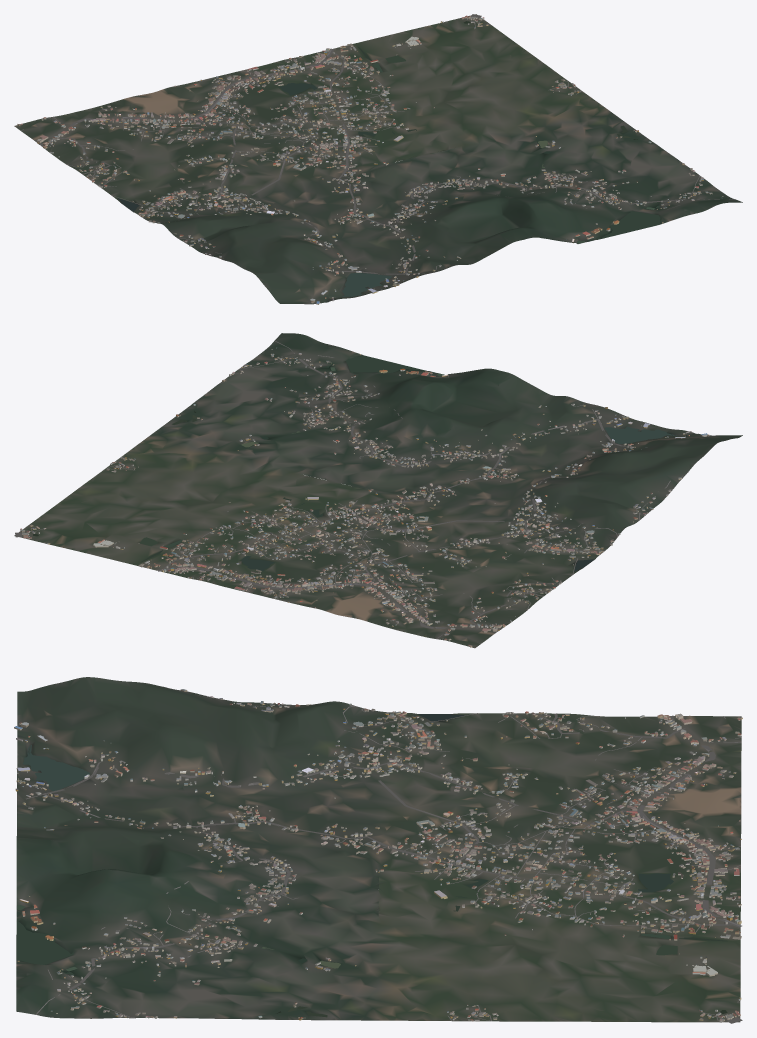
3 views of the same model, one above another, from view 1: azimuth 30°, elevation 25°; view 2: azimuth 150°, elevation 25°; view 3: azimuth 270°, elevation 25° (orthographic). The views are drawn at different scales.
Visible parts, largest first — view 1: ground, buildings, roads, water; view 2: ground, buildings, roads, water; view 3: ground, buildings, roads, water.
Boxes of the visible parts, x1,y1,x2,y2 form: ground: (14,14,742,304); buildings: (17,15,723,304); roads: (21,14,734,274); water: (118,21,660,300); ground: (14,333,742,648); buildings: (20,347,709,647); roads: (15,340,688,643); water: (33,355,692,571); ground: (16,677,741,1022); buildings: (14,689,742,1022); roads: (22,686,742,1023); water: (16,714,727,1019).
Size of the model in its own units: 2823 by 174 by 2822.
